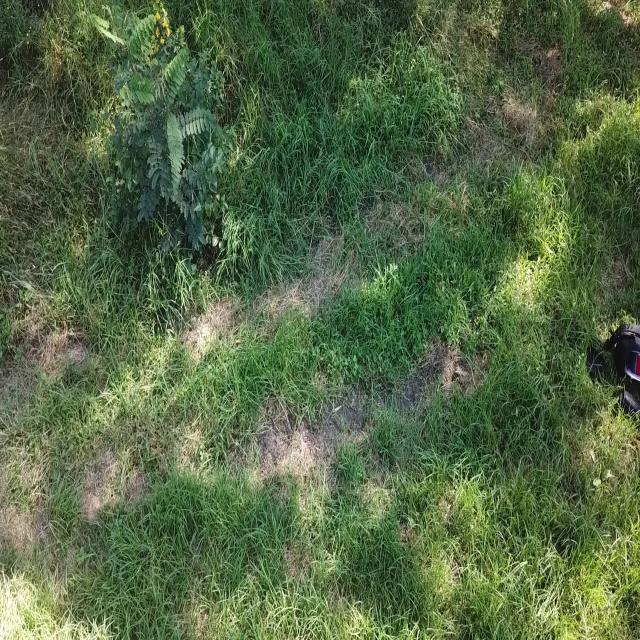Mysore-Thorn-Weed: (104, 9, 237, 270)
